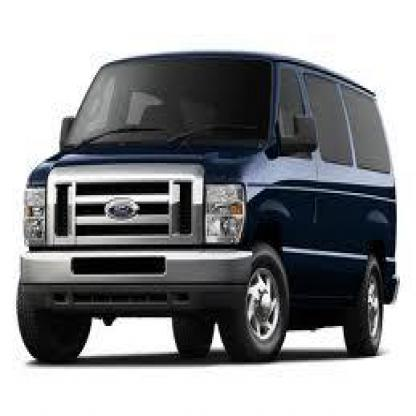Vehicle: (16, 53, 400, 366)
